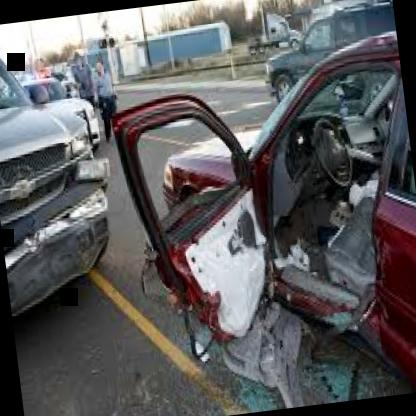accident: (107, 31, 416, 405), (0, 82, 136, 341)
